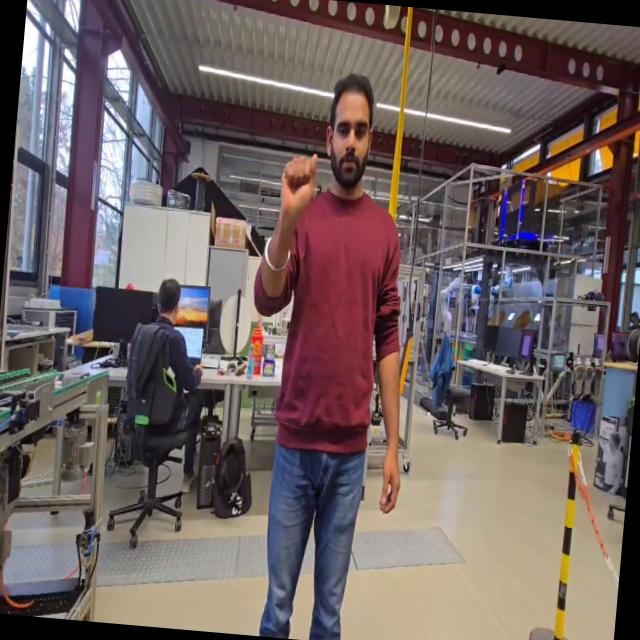closed_fist: (274, 143, 324, 230)
